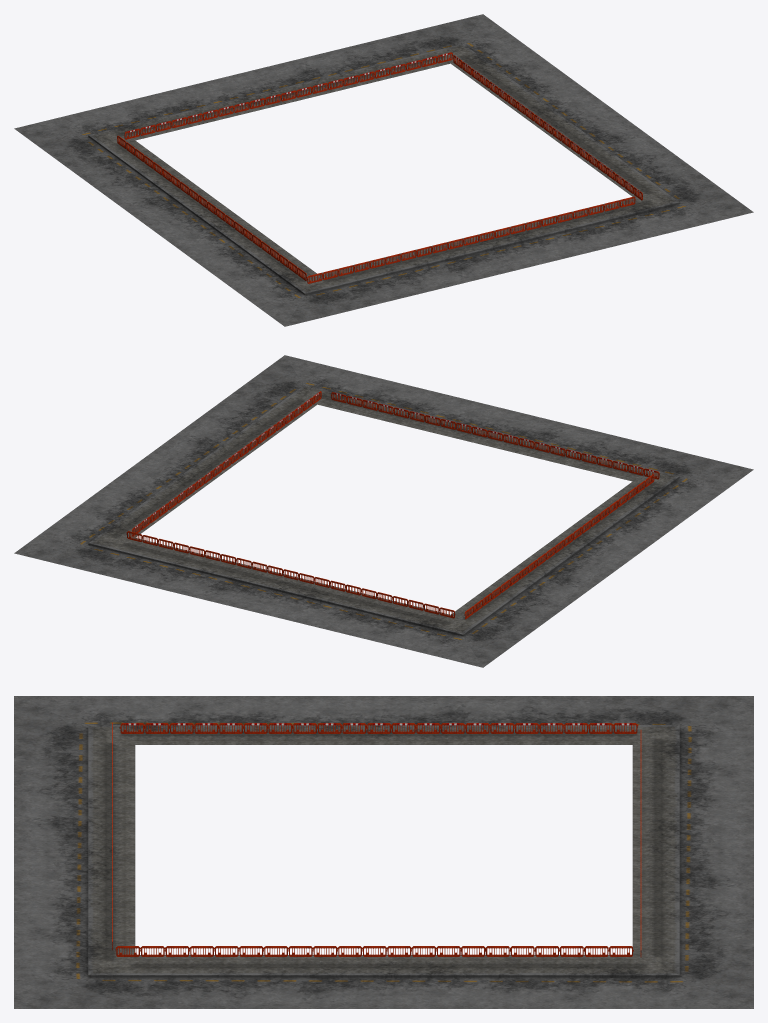
Rendered from Street and  Barrier.fbx.
3 views of the same model, one above another, from view 1: azimuth 30°, elevation 25°; view 2: azimuth 150°, elevation 25°; view 3: azimuth 270°, elevation 25° (orthographic). The views are drawn at different scales.
Visible parts, largest first — view 1: Plane.008, Plane.002, Plane.006, Plane.004, Plane.007, Plane.003, Plane.005, Plane.001; view 2: Plane.004, Plane.002, Plane.006, Plane.008, Plane.003, Plane.007, Plane.001, Plane.005; view 3: Plane.006, Plane.004, Plane.008, Plane.002, Plane.001, Plane.005.
Boxes of the visible parts, x1,y1,x2,y2 form: Plane.008: (285, 197, 753, 326); Plane.002: (14, 128, 316, 326); Plane.006: (451, 14, 753, 212); Plane.004: (14, 14, 482, 140); Plane.007: (307, 196, 635, 283); Plane.003: (124, 52, 452, 139); Plane.005: (453, 55, 642, 200); Plane.001: (117, 135, 306, 280); Plane.004: (14, 538, 482, 667); Plane.002: (451, 469, 753, 667); Plane.006: (14, 355, 316, 553); Plane.008: (285, 355, 753, 481); Plane.003: (126, 531, 455, 618); Plane.007: (331, 392, 659, 479); Plane.001: (464, 474, 654, 619); Plane.005: (132, 391, 321, 536); Plane.006: (14, 955, 753, 1008); Plane.004: (632, 696, 753, 1008); Plane.008: (14, 696, 135, 1008); Plane.002: (14, 696, 753, 744); Plane.001: (119, 723, 638, 733); Plane.005: (115, 946, 633, 956).
Size of the model in its own units: 6250 by 125 by 6250.
2 materials, 2 textured.
